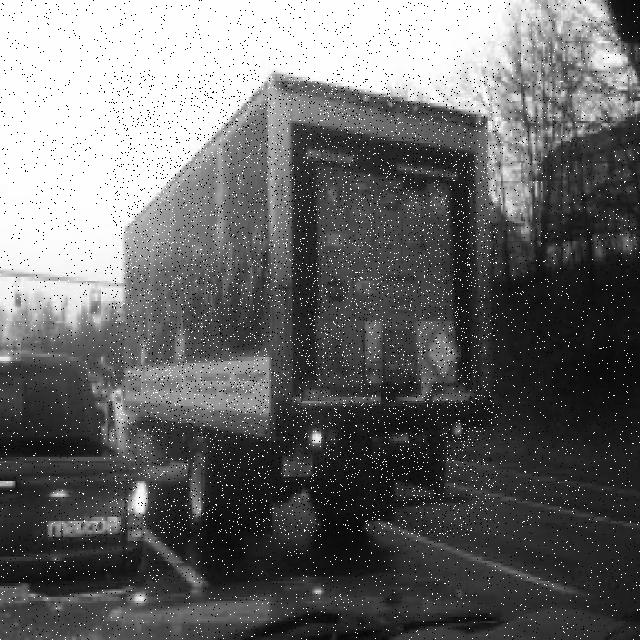Box Truck: (110, 74, 498, 535)
